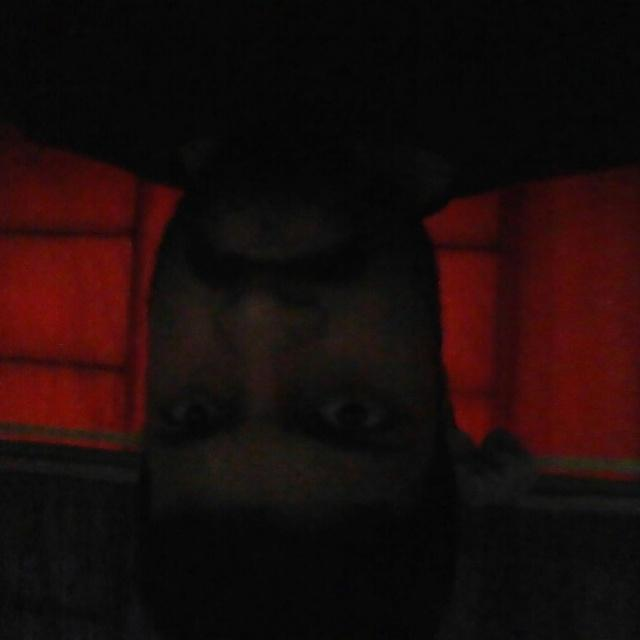Angry: (102, 139, 441, 598)
